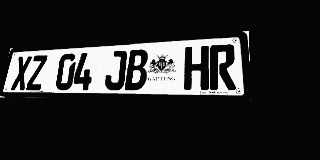0: (54, 53, 77, 90)
4: (72, 52, 95, 90)
B: (125, 49, 149, 90)
H: (184, 45, 209, 90)
J: (104, 50, 128, 90)
R: (210, 44, 236, 90)
X: (11, 56, 32, 90)
Z: (26, 55, 48, 90)
